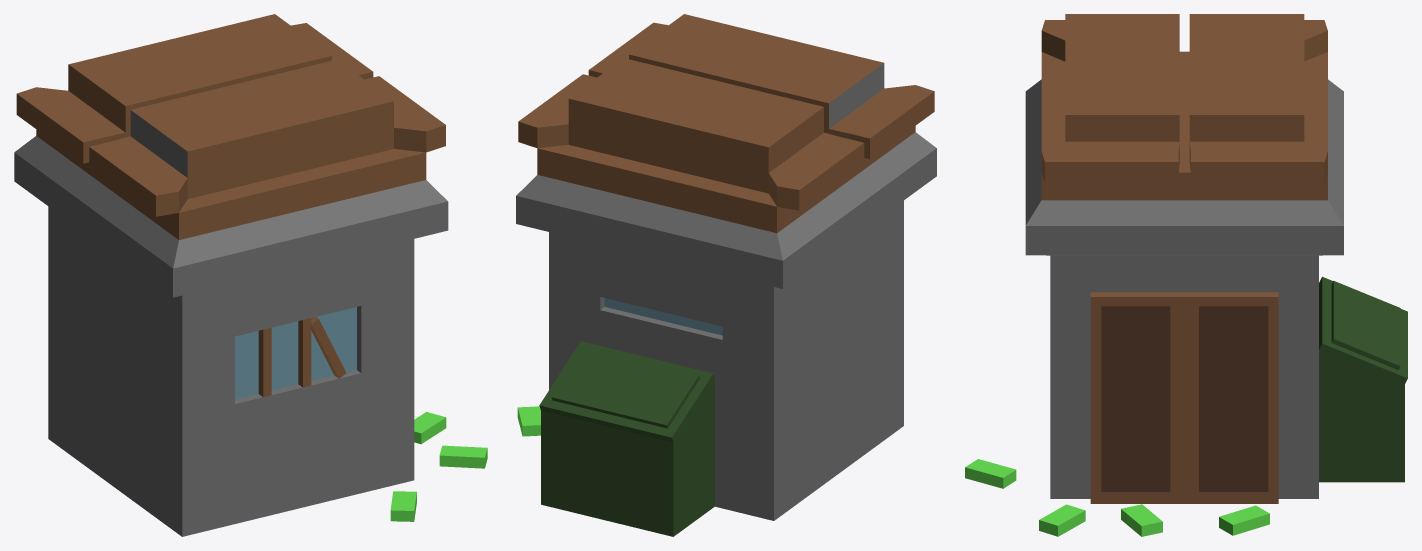
File: Robunion.fbx
3 renders of one model, left to right at view 1: azimuth 30°, elevation 25°; view 2: azimuth 150°, elevation 25°; view 3: azimuth 270°, elevation 25°, orthographic. The views are drawn at different scales.
Visible parts, largest first — view 1: Cube; view 2: Cube; view 3: Cube.
Part boxes in pixels (x1=…): Cube: x1=14, y1=14, x2=487, y2=536; Cube: x1=516, y1=14, x2=936, y2=536; Cube: x1=965, y1=14, x2=1407, y2=536.
Bounding box in the file's own units: 292 × 310 × 330.
